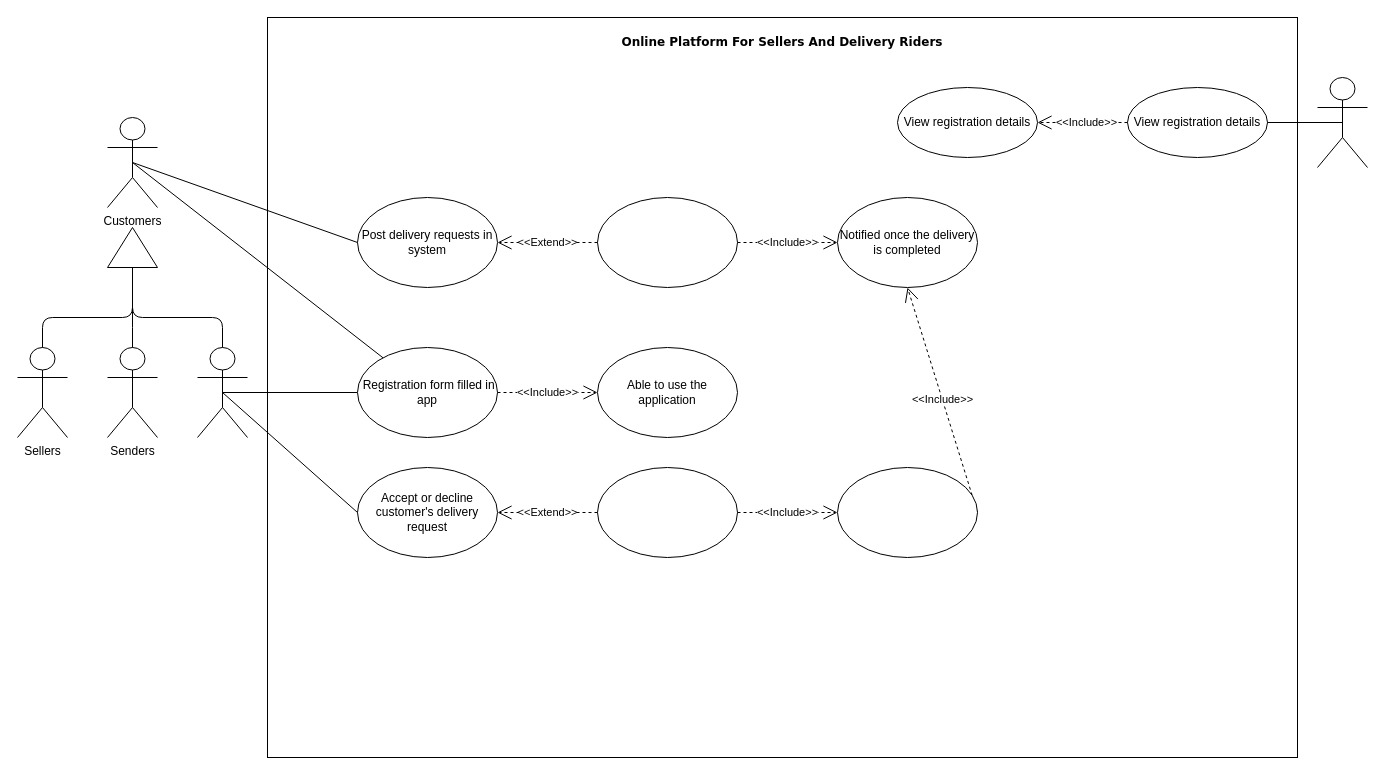
Image size: 1385x775. Some labels were removed from this diagram. The centre of each missing label's shape, as x and y in pixels:
"Admin" goes at point (1342, 122).
"Delivery Complete" goes at point (907, 512).
"Pickup and delivery for customers" goes at point (667, 512).
"Post current and future delivery requests" goes at point (667, 242).
"Riders" goes at point (222, 392).
